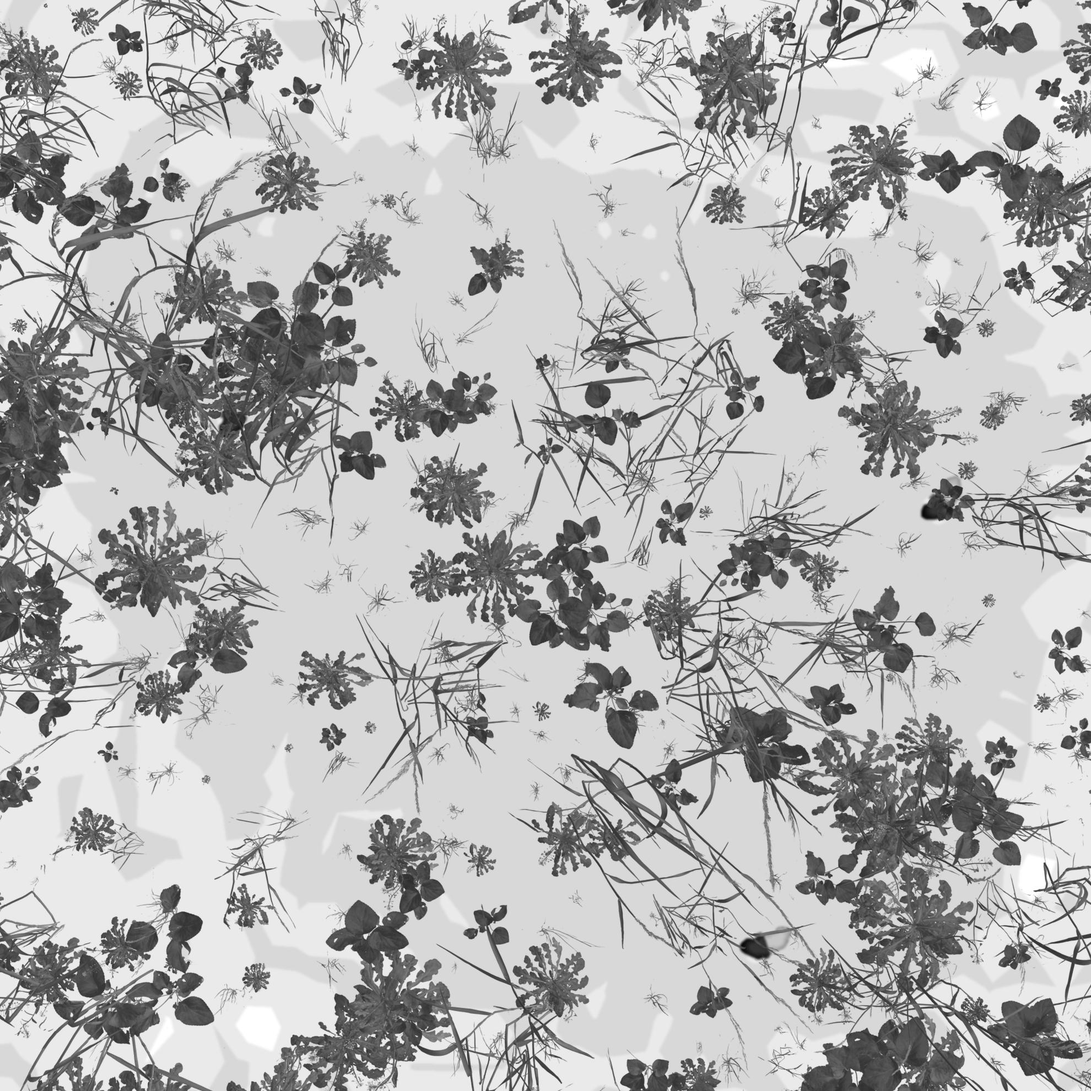landmine: (736, 922, 796, 960)
